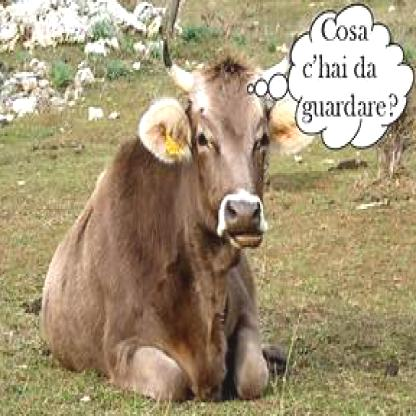cow: (40, 39, 289, 401)
